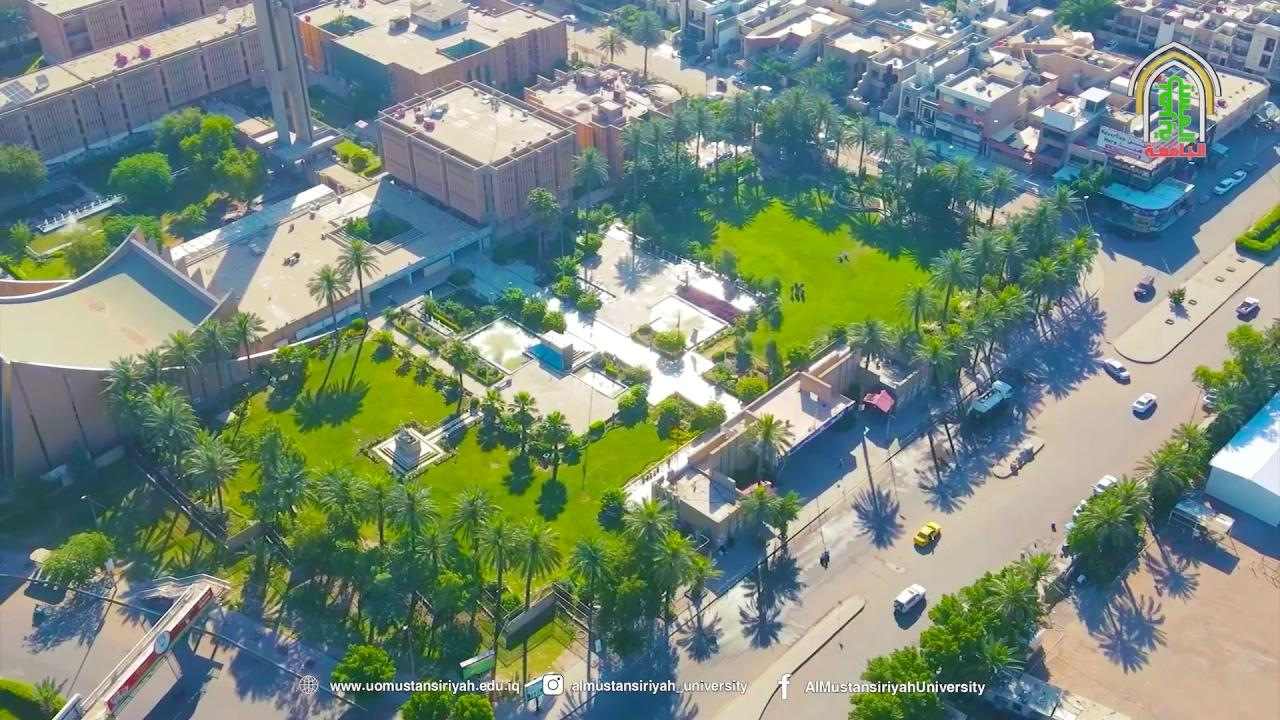car: (968, 379, 1013, 419), (893, 584, 926, 614), (1212, 169, 1246, 195), (862, 389, 895, 414), (1102, 357, 1130, 384), (912, 521, 941, 547), (1090, 475, 1118, 496), (1132, 393, 1157, 414), (1235, 296, 1259, 317), (686, 531, 710, 550), (1202, 387, 1219, 411), (1073, 498, 1088, 519), (560, 14, 578, 23)
fountain: (636, 286, 730, 354), (461, 316, 540, 374), (33, 191, 127, 234)
person: (820, 549, 829, 569), (1060, 539, 1069, 559)
tree: (570, 73, 1106, 507), (829, 179, 1104, 506), (99, 104, 261, 255), (1190, 321, 1279, 454), (471, 513, 526, 702), (1065, 473, 1152, 585), (565, 535, 615, 708), (446, 483, 502, 628), (241, 422, 311, 531), (847, 644, 946, 718), (1134, 420, 1212, 511), (137, 380, 202, 477), (642, 528, 696, 641), (178, 427, 242, 517), (97, 353, 150, 451), (310, 459, 370, 544), (616, 120, 650, 270), (680, 552, 725, 663), (511, 515, 562, 611), (763, 85, 820, 169), (290, 374, 371, 433), (739, 483, 802, 557), (329, 642, 396, 711), (179, 113, 236, 193), (40, 528, 115, 588), (105, 150, 174, 212), (927, 247, 976, 327), (740, 411, 794, 482), (446, 483, 501, 552), (355, 467, 401, 549), (335, 237, 382, 317), (566, 535, 615, 610), (395, 683, 494, 719), (387, 480, 440, 546), (530, 409, 577, 481), (438, 337, 481, 414), (0, 139, 47, 209), (212, 144, 261, 206), (101, 211, 170, 255), (305, 263, 351, 328), (1019, 254, 1065, 319), (910, 333, 956, 397), (223, 309, 266, 374), (569, 144, 610, 212), (620, 494, 677, 542), (59, 224, 110, 277), (845, 314, 893, 369), (524, 185, 558, 258), (973, 632, 1023, 680), (895, 279, 937, 336), (842, 112, 878, 178), (681, 552, 725, 605), (631, 10, 664, 80), (681, 608, 722, 663), (650, 396, 691, 449), (1236, 203, 1280, 252), (1052, 0, 1118, 32), (981, 165, 1016, 225), (683, 98, 713, 168), (743, 84, 771, 154), (961, 172, 992, 232), (29, 674, 69, 718), (511, 390, 537, 454), (595, 486, 628, 533), (533, 477, 568, 521), (616, 382, 648, 427), (688, 399, 726, 434), (596, 26, 626, 64), (575, 288, 602, 328), (734, 375, 767, 407), (651, 326, 686, 356), (6, 218, 32, 258), (763, 337, 784, 386), (873, 126, 895, 163), (540, 308, 566, 334), (1167, 284, 1186, 306)
